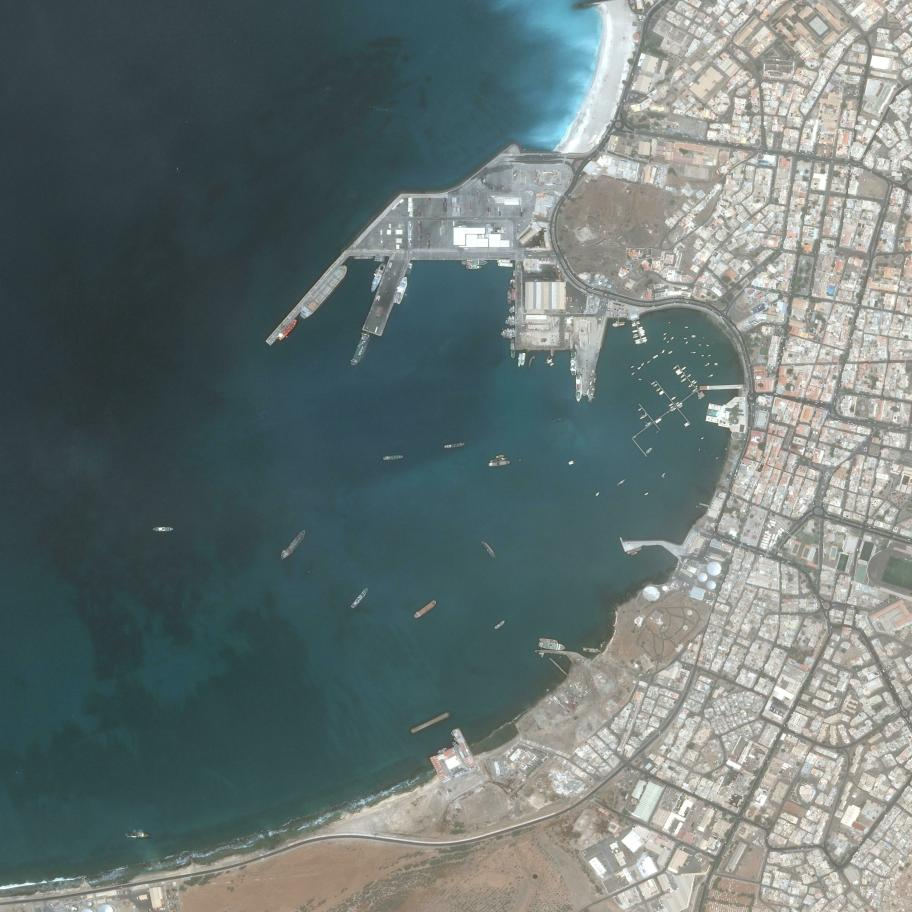ship: (297, 262, 351, 321), (277, 526, 309, 562), (349, 332, 371, 368), (368, 261, 387, 293), (276, 317, 299, 342), (412, 598, 438, 620), (392, 275, 410, 305), (350, 586, 369, 610), (538, 640, 567, 652), (574, 374, 582, 403), (587, 383, 596, 404), (488, 460, 511, 468), (570, 351, 577, 376), (126, 832, 150, 839), (461, 260, 488, 266), (582, 646, 602, 654), (444, 442, 465, 449), (626, 546, 642, 555), (493, 619, 506, 630), (405, 261, 414, 275), (510, 339, 516, 359), (539, 637, 558, 643), (465, 265, 483, 271), (383, 455, 403, 460), (153, 527, 173, 532), (497, 262, 513, 268), (436, 747, 448, 755), (644, 446, 653, 455), (616, 478, 626, 486), (354, 256, 374, 260), (493, 457, 508, 462), (517, 353, 522, 368), (638, 413, 648, 420), (507, 315, 513, 326), (521, 353, 526, 366), (507, 289, 511, 305), (630, 550, 639, 557), (654, 417, 663, 424), (497, 259, 511, 263), (680, 377, 688, 384), (644, 420, 652, 427), (546, 357, 553, 364), (652, 354, 660, 360), (593, 372, 597, 384), (649, 380, 657, 386), (633, 338, 642, 343), (511, 314, 515, 325), (511, 327, 515, 338), (509, 328, 513, 339), (506, 328, 510, 339), (512, 277, 516, 288), (658, 390, 665, 396), (676, 370, 683, 376), (683, 422, 690, 428), (495, 454, 505, 458), (595, 491, 601, 497), (692, 380, 698, 386), (660, 472, 666, 478), (671, 395, 677, 401), (672, 365, 678, 371), (668, 402, 674, 408), (668, 404, 674, 410), (568, 460, 575, 465), (676, 402, 683, 407), (670, 407, 677, 412), (511, 305, 515, 313), (509, 278, 513, 286), (670, 335, 675, 341), (690, 379, 696, 384), (692, 388, 697, 394), (681, 366, 687, 371), (678, 404, 684, 409), (652, 383, 658, 388), (640, 361, 645, 367), (637, 407, 643, 412), (631, 329, 638, 333), (634, 341, 641, 345), (512, 269, 515, 278), (450, 732, 455, 737), (705, 361, 710, 366), (662, 336, 667, 341), (644, 491, 649, 496), (550, 362, 555, 367), (656, 387, 661, 392), (646, 359, 651, 364), (637, 366, 642, 371), (642, 338, 648, 342), (640, 332, 646, 336), (640, 333, 646, 337), (641, 336, 647, 340), (639, 330, 645, 334), (708, 373, 714, 377), (618, 321, 626, 324), (631, 324, 637, 328), (633, 333, 639, 337), (633, 334, 639, 338), (505, 319, 509, 325), (674, 401, 680, 405), (504, 329, 507, 337), (502, 330, 505, 338), (374, 260, 385, 262), (509, 306, 512, 313), (375, 258, 385, 260), (714, 362, 719, 366), (707, 354, 712, 358), (687, 373, 692, 377), (638, 326, 643, 330), (630, 365, 635, 369), (631, 371, 635, 376), (375, 256, 385, 258), (661, 349, 665, 354), (688, 384, 693, 388), (680, 375, 685, 379), (668, 350, 673, 354), (452, 742, 457, 746), (539, 652, 545, 655), (619, 323, 625, 326), (637, 378, 643, 381), (639, 328, 643, 332), (454, 743, 458, 747), (666, 339, 670, 343), (663, 332, 667, 336), (700, 436, 704, 440), (454, 737, 457, 742), (612, 322, 615, 327), (691, 335, 696, 338), (697, 343, 702, 346), (637, 322, 641, 325), (692, 351, 696, 354), (706, 344, 710, 347), (614, 323, 616, 328), (631, 323, 636, 325), (616, 322, 618, 327), (683, 338, 688, 340), (684, 326, 689, 328), (695, 385, 698, 388), (685, 341, 688, 344), (700, 354, 704, 356)
storage-tank: (642, 586, 660, 602), (707, 562, 723, 576), (706, 580, 717, 590), (697, 572, 708, 582), (662, 585, 669, 592), (88, 902, 94, 907), (71, 907, 78, 911)
